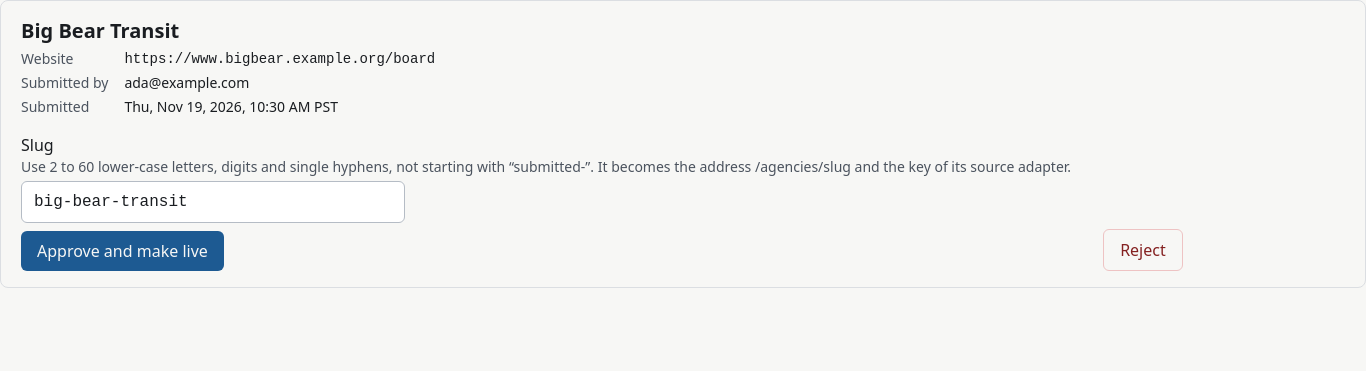
it: ReviewItem › explains gone
Step 1. Click the button "Approve and make live" → x=122, y=251, box [21, 231, 224, 271]
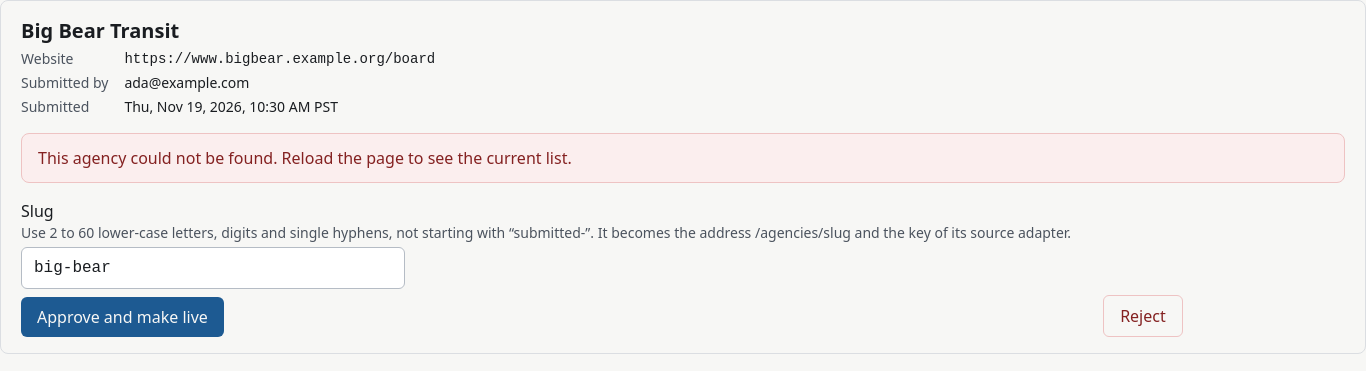
Result: the message shows "could not be found" at [38, 147, 572, 169]
